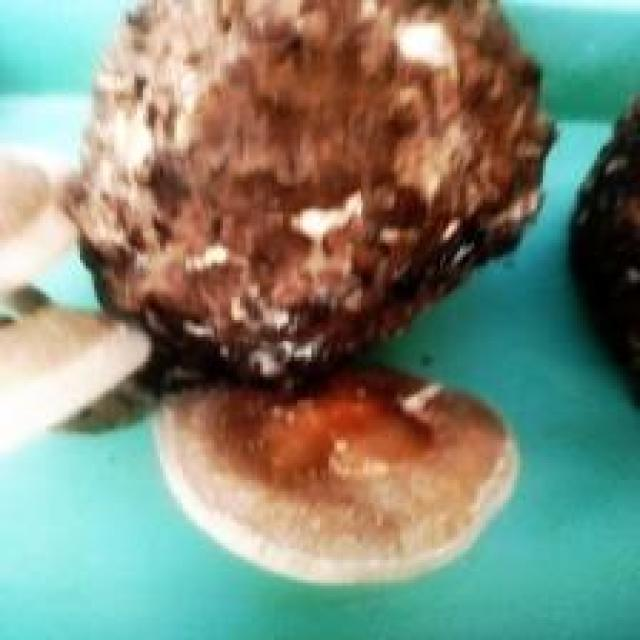chanterelle: (57, 0, 557, 389)
